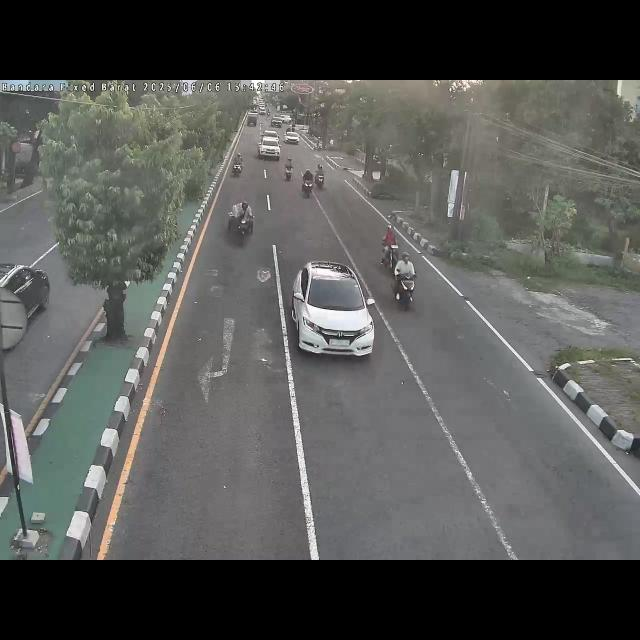Mobil: (289, 256, 375, 360)
Motor: (394, 247, 418, 313), (228, 196, 256, 244), (380, 222, 400, 270), (300, 168, 314, 200), (231, 152, 245, 178), (315, 162, 327, 190), (282, 156, 294, 182)
